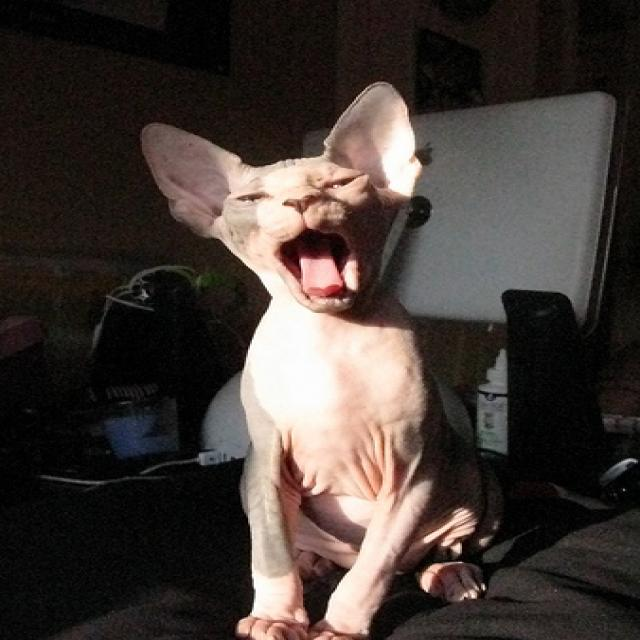Sphynx: (132, 77, 510, 640)
